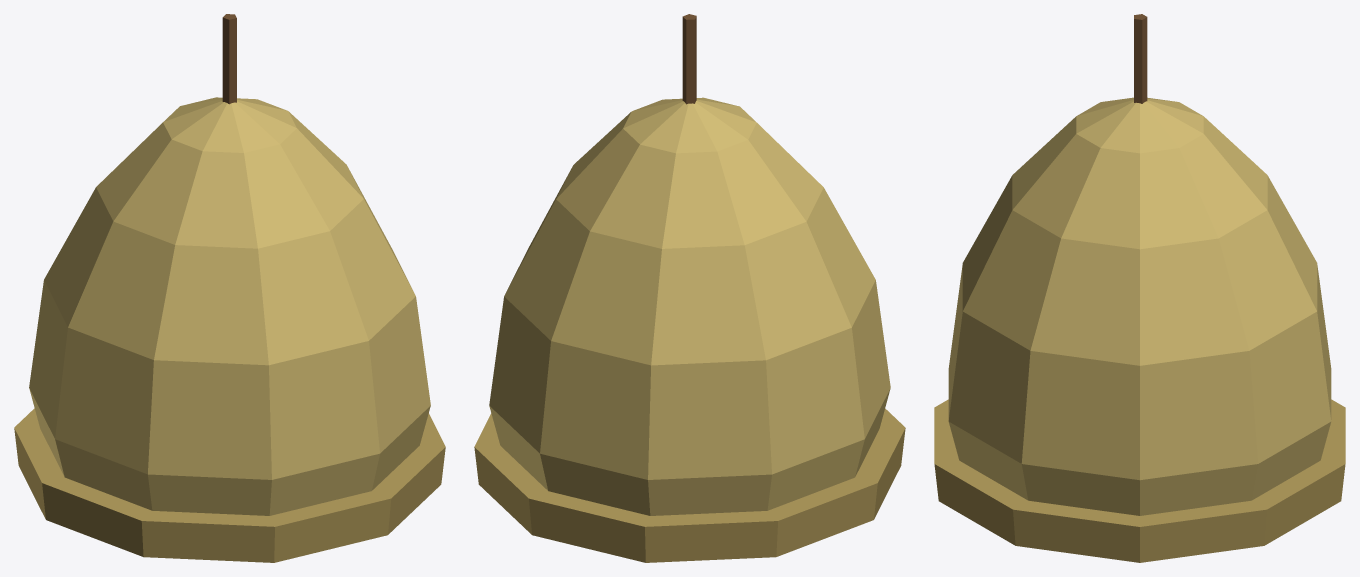
File: haystack.glb
3 views of the same model, side by side, from view 1: azimuth 30°, elevation 25°; view 2: azimuth 150°, elevation 25°; view 3: azimuth 270°, elevation 25° (orthographic).
Visible parts, largest first — view 1: haystack; view 2: haystack; view 3: haystack.
Boxes of the visible parts, <box> form: haystack: <box>14,14,445,562</box>; haystack: <box>474,14,905,562</box>; haystack: <box>934,14,1345,562</box>.
Bounding box in the file's own units: 2.9 × 3.4 × 2.76.
